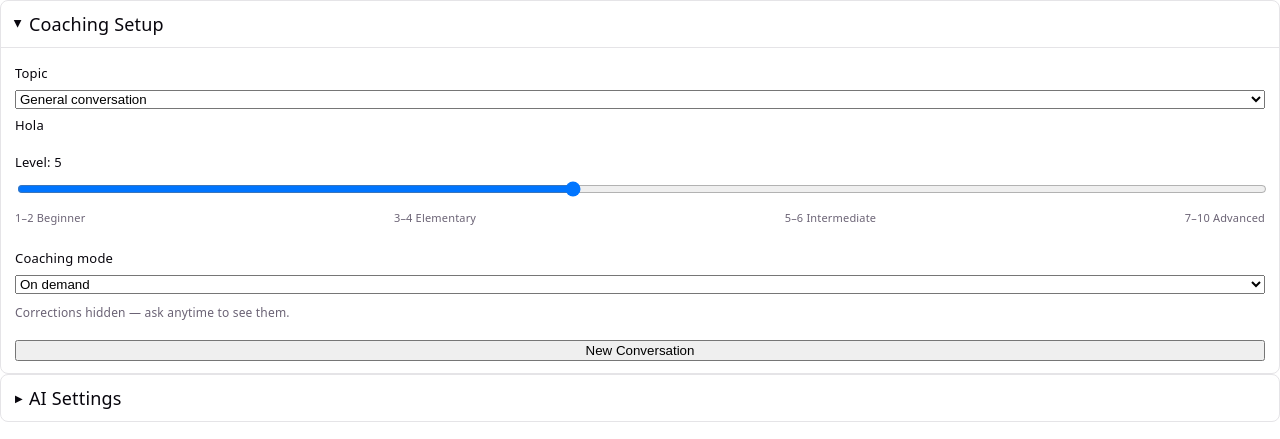
SessionConfig — topic picker › selecting Custom reveals a text input
This screenshot has width=1280, height=439.
Select "Custom…" in the dropdown labelled "Topic" at (640, 100), box [15,90,1265,109]
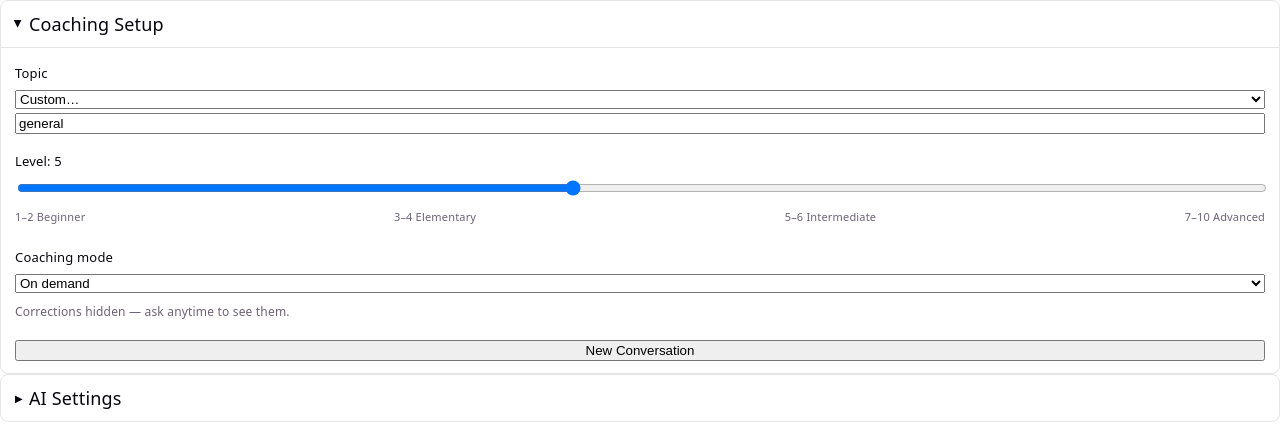
Now the field with placeholder "Enter a topic" is shown, box [15,113,1265,134]
